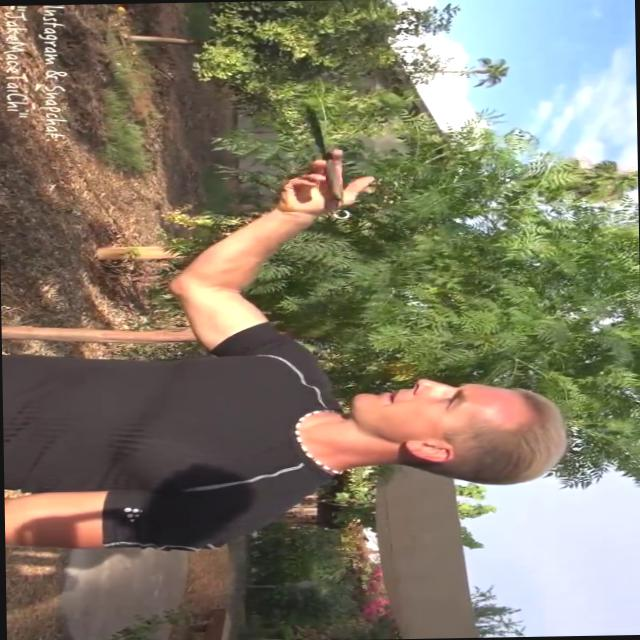knife: (278, 96, 361, 230)
